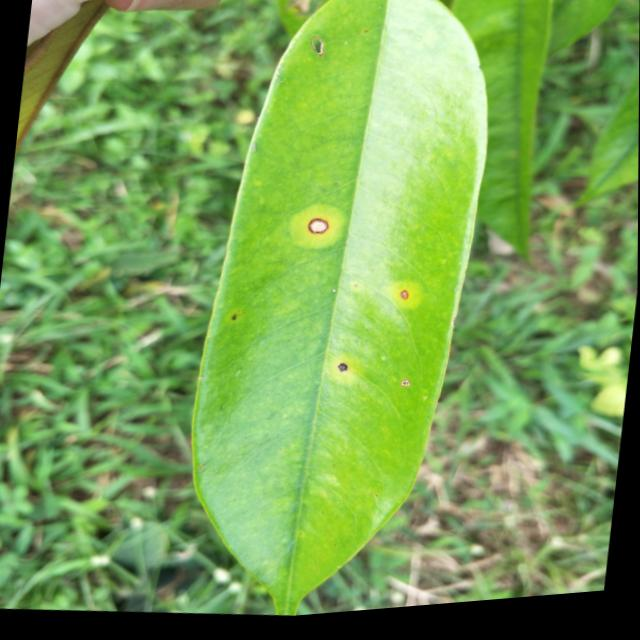Leaf Spot: (288, 207, 358, 254), (383, 281, 422, 316), (319, 361, 355, 387)
